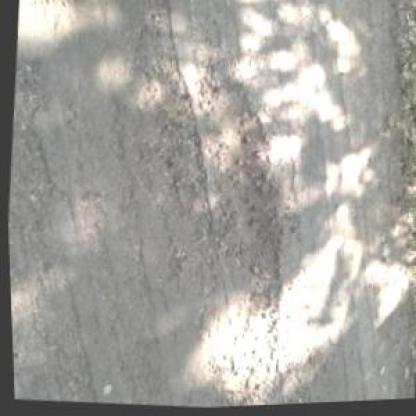pothole: (182, 79, 301, 330)
